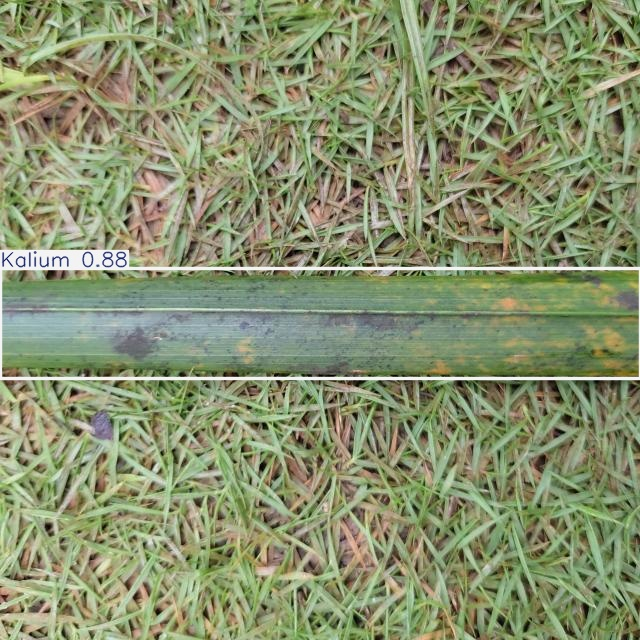Kalium: (0, 269, 640, 379)
